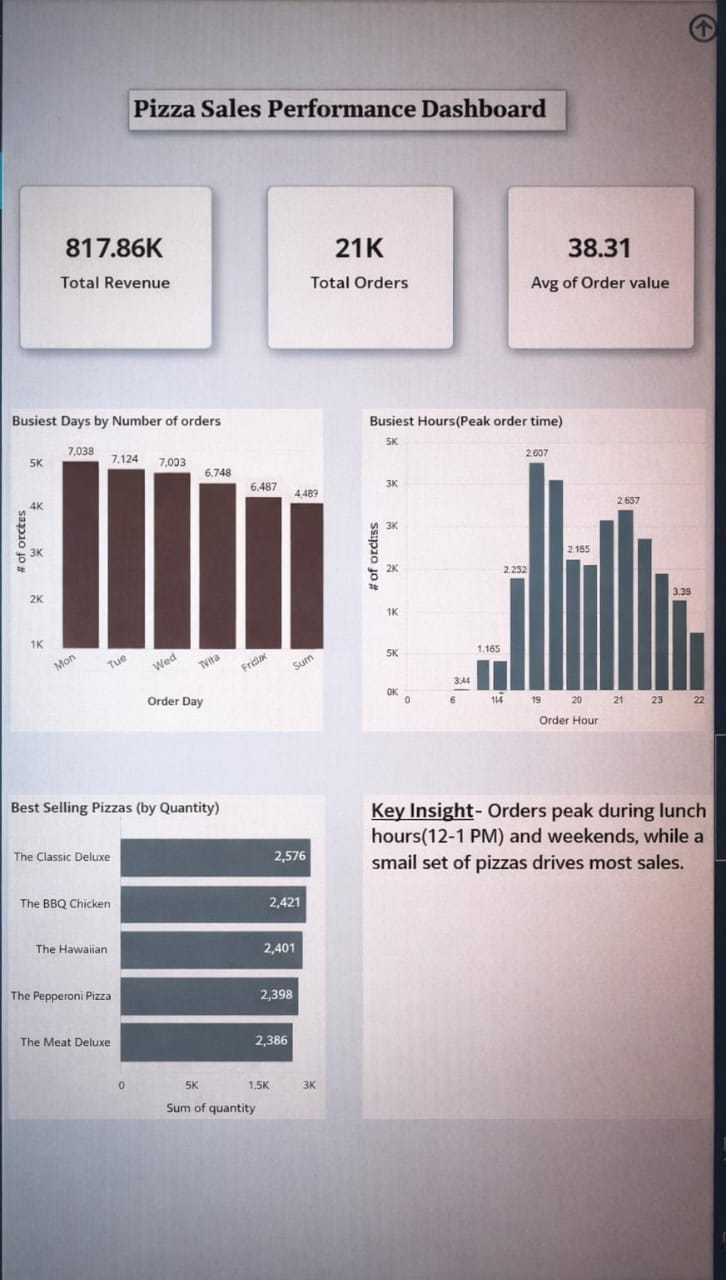

Layout of this report page (visuals, bound fields, positions):
{"tool":"powerbi","page":{"name":"Page 1","canvas":[1280,1600],"ordinal":0},"visuals":[{"type":"clusteredColumnChart","fields":{"Category":["Pizza_sales - pizza_sales.Order Day"],"Y":["CountNonNull(Pizza_sales - pizza_sales.order_id)"]},"box":[96,528,480,432],"z":0},{"type":"clusteredColumnChart","title":"Busiest Hours(Peak order time)","fields":{"Category":["Pizza_sales - pizza_sales.Order Hour"],"Y":["CountNonNull(Pizza_sales - pizza_sales.order_id)"]},"box":[672,528,528,432],"z":1000},{"type":"clusteredBarChart","title":"Best Selling Pizzas (by Quantity)","fields":{"Category":["Pizza_sales - pizza_sales.pizza_name"],"Y":["Sum(Pizza_sales - pizza_sales.quantity)"]},"box":[96,1056,480,432],"z":2000},{"type":"actionButton","box":[0,0,100,40],"z":3000},{"type":"card","title":"Total Revenue","fields":{"Values":["Pizza_sales - pizza_sales.Total Revenue"]},"box":[96,192,336,240],"z":4000},{"type":"card","fields":{"Values":["Pizza_sales - pizza_sales.Total Orders"]},"box":[528,192,288,240],"z":5000},{"type":"card","fields":{"Values":["Pizza_sales - pizza_sales.Avg of Order value"]},"box":[912,192,336,240],"z":6000},{"type":"textbox","box":[320,48,656,64],"z":7000},{"type":"textbox","box":[672,1056,528,432],"z":8000}]}

Visuals, with their boxes on the page's 1280x1600 design canvas (x1, y1, x2, y2). These are canvas units, not pixel positions in the 726x1280 screenshot, which may show the page scaled, cropped or inside an application window:
clusteredColumnChart - Pizza_sales - pizza_sales.Order Day x CountNonNull(Pizza_sales - pizza_sales.order_id): x1=96 y1=528 x2=576 y2=960
"Busiest Hours(Peak order time)" clusteredColumnChart: x1=672 y1=528 x2=1200 y2=960
"Best Selling Pizzas (by Quantity)" clusteredBarChart: x1=96 y1=1056 x2=576 y2=1488
actionButton: x1=0 y1=0 x2=100 y2=40
"Total Revenue" card: x1=96 y1=192 x2=432 y2=432
card - Pizza_sales - pizza_sales.Total Orders: x1=528 y1=192 x2=816 y2=432
card - Pizza_sales - pizza_sales.Avg of Order value: x1=912 y1=192 x2=1248 y2=432
textbox: x1=320 y1=48 x2=976 y2=112
textbox: x1=672 y1=1056 x2=1200 y2=1488
